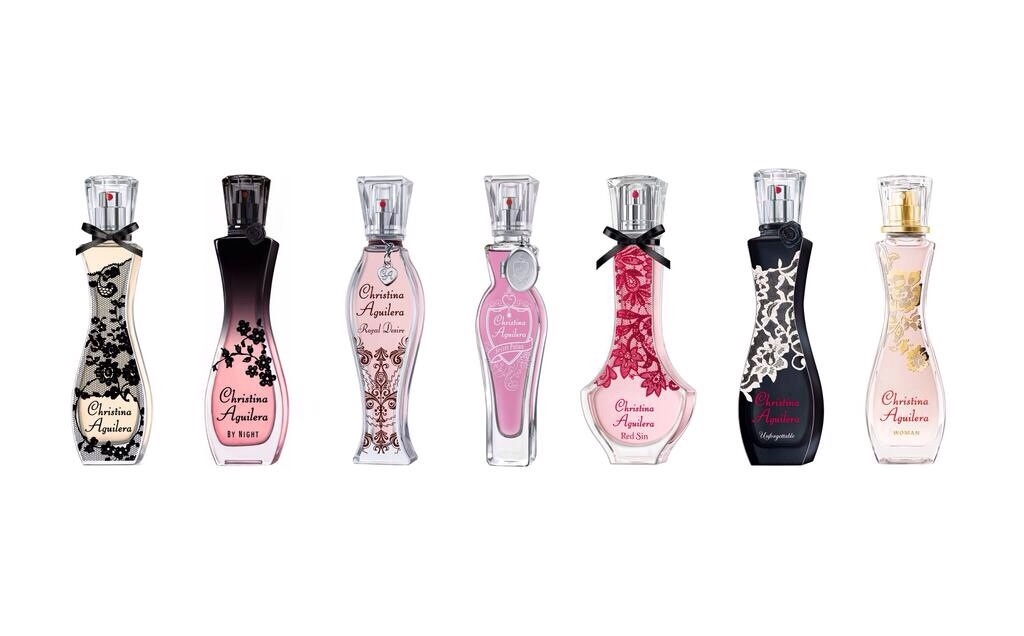can: (583, 174, 698, 465), (740, 168, 824, 468), (205, 175, 291, 467), (347, 174, 427, 467), (71, 175, 151, 465), (867, 175, 947, 465), (475, 175, 548, 468)
